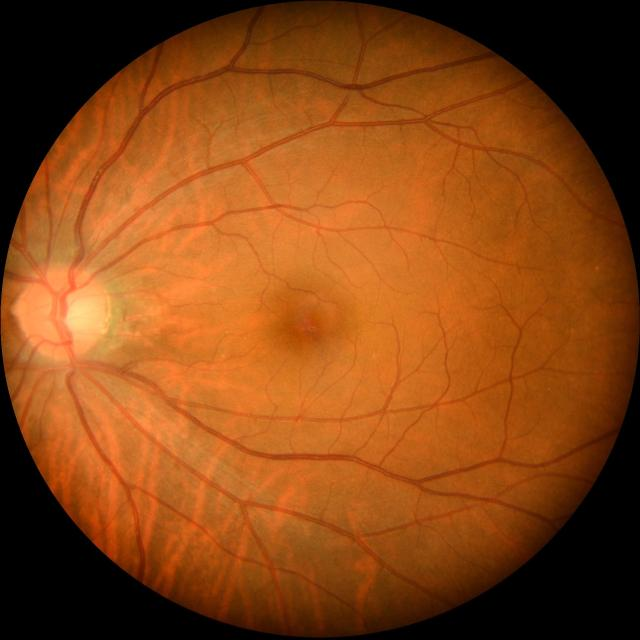OC: (53, 290, 95, 336)
OD: (18, 267, 108, 357)
